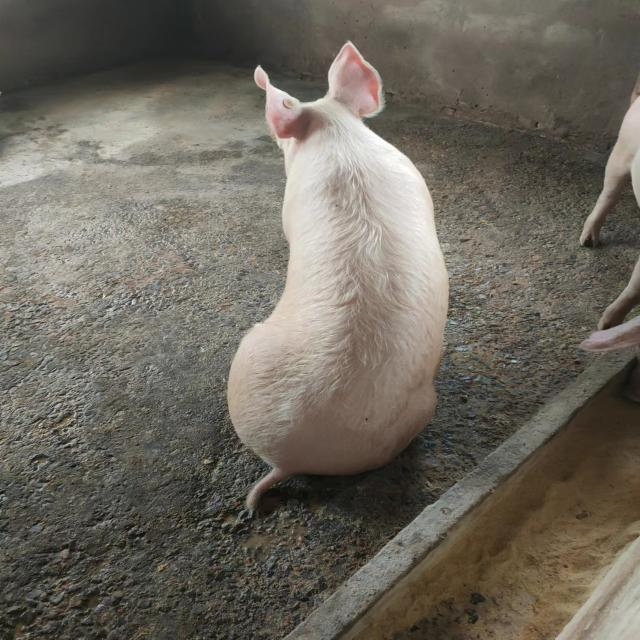pig: (228, 42, 449, 508), (580, 96, 640, 245), (581, 258, 640, 351), (626, 365, 640, 401)
